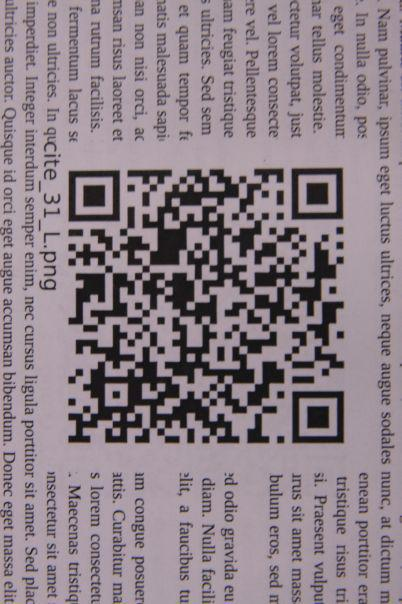Finder pattern: (287, 162, 352, 225), (63, 165, 126, 228), (289, 385, 348, 446)
